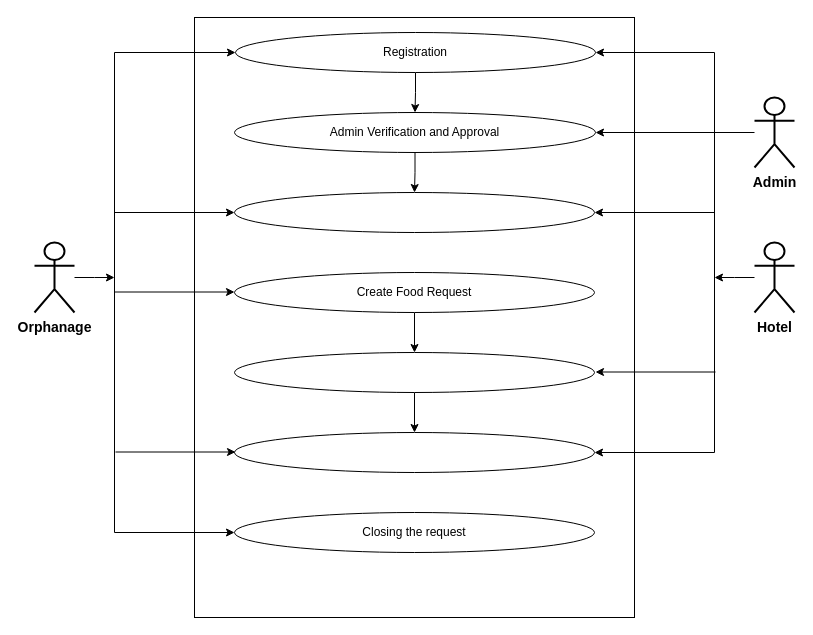
This 813x635 diagram has some shape labels left out. The box of each missing label's shape, as (x1, y1, x2, y2) in pixels:
Accepts Food Request: (234, 352, 594, 392)
Delivering the Food: (234, 432, 594, 472)
Login: (234, 192, 594, 232)
